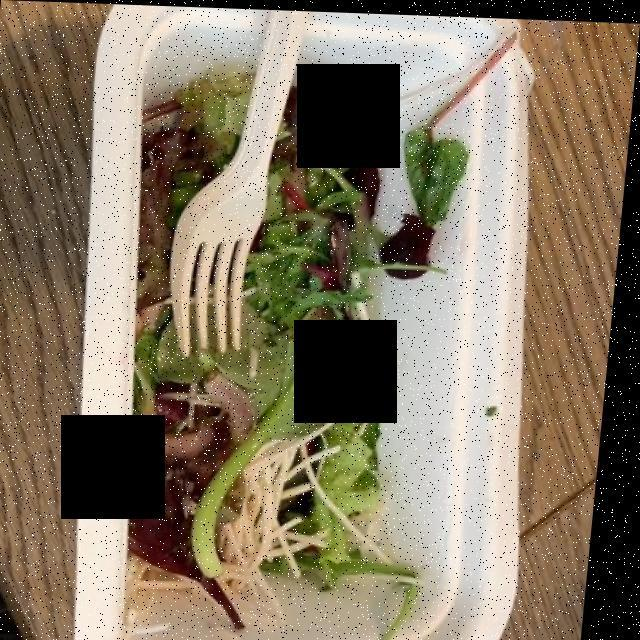salad: (144, 78, 455, 630)
